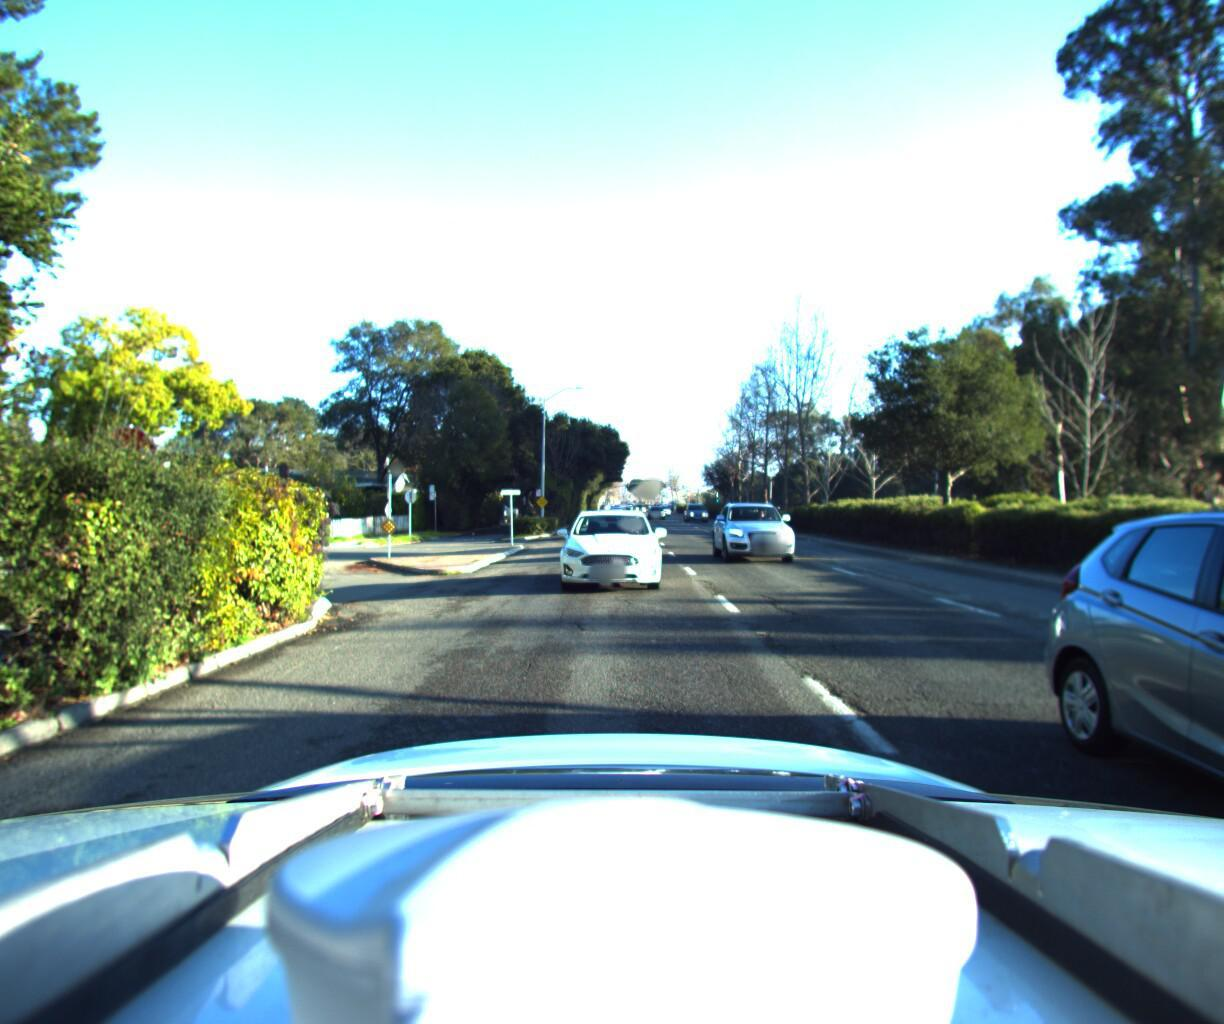car: (1148, 498, 1224, 1024), (552, 503, 663, 593), (711, 496, 809, 567), (684, 499, 711, 519)
